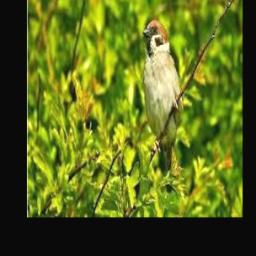Sparrow: (142, 20, 182, 193)
